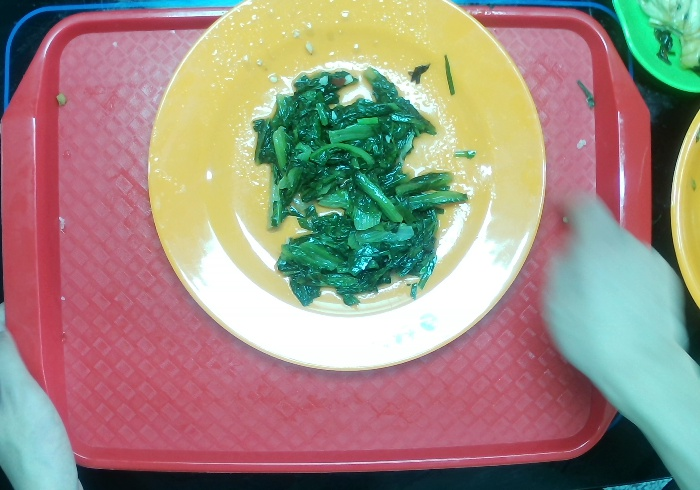YKMZ-Ju_Se_Mian_Pan: (146, 1, 548, 374)
